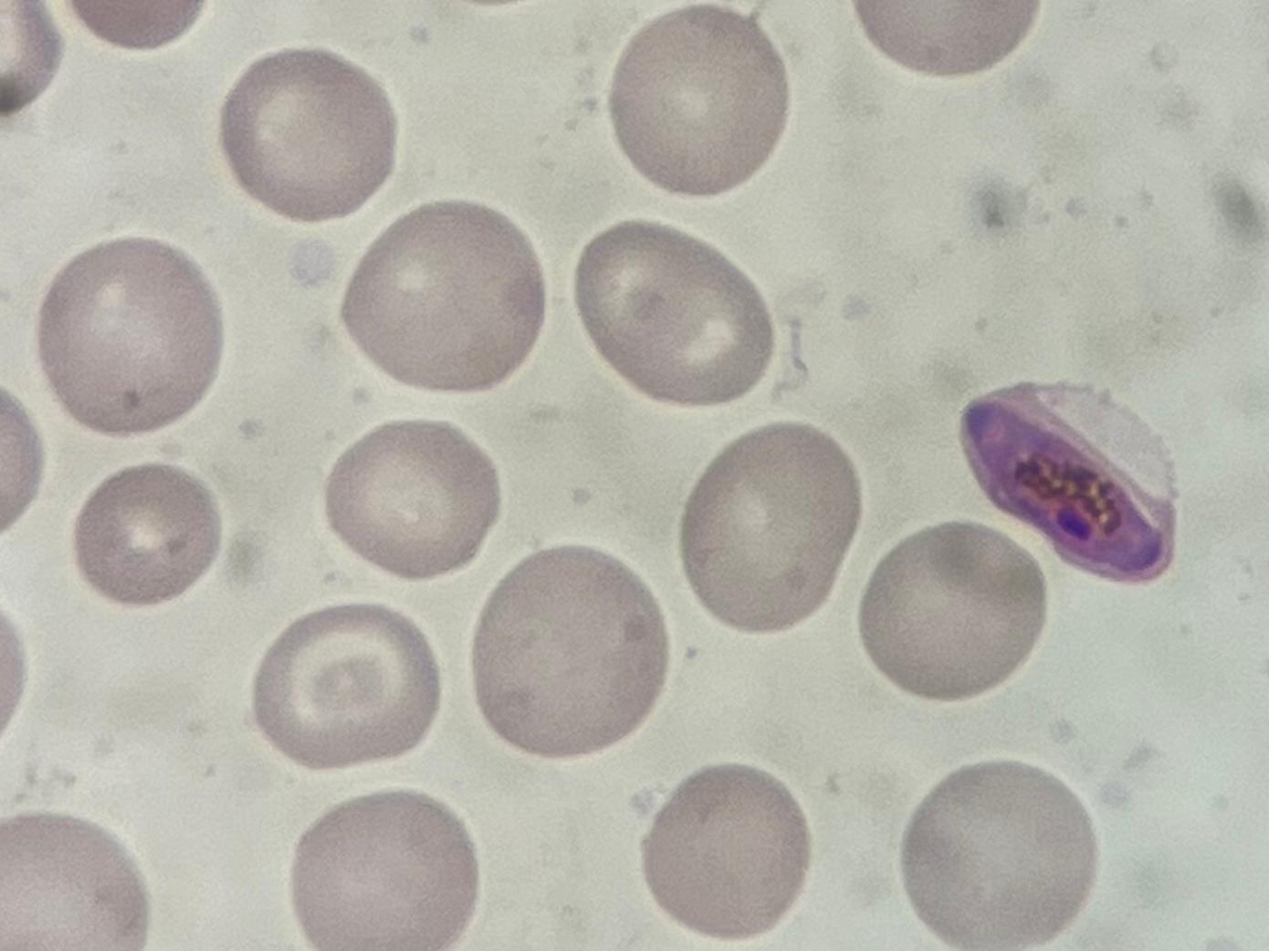Infected: (955, 375, 1177, 585)
Uninfected: (473, 544, 667, 760), (343, 197, 544, 392), (681, 422, 861, 634), (902, 758, 1092, 951), (575, 221, 772, 407), (40, 236, 223, 436), (858, 519, 1047, 701), (608, 9, 787, 196), (217, 50, 395, 223), (254, 601, 438, 767), (641, 762, 809, 942), (290, 791, 477, 951), (327, 418, 496, 577), (73, 462, 222, 605), (0, 813, 152, 951)
